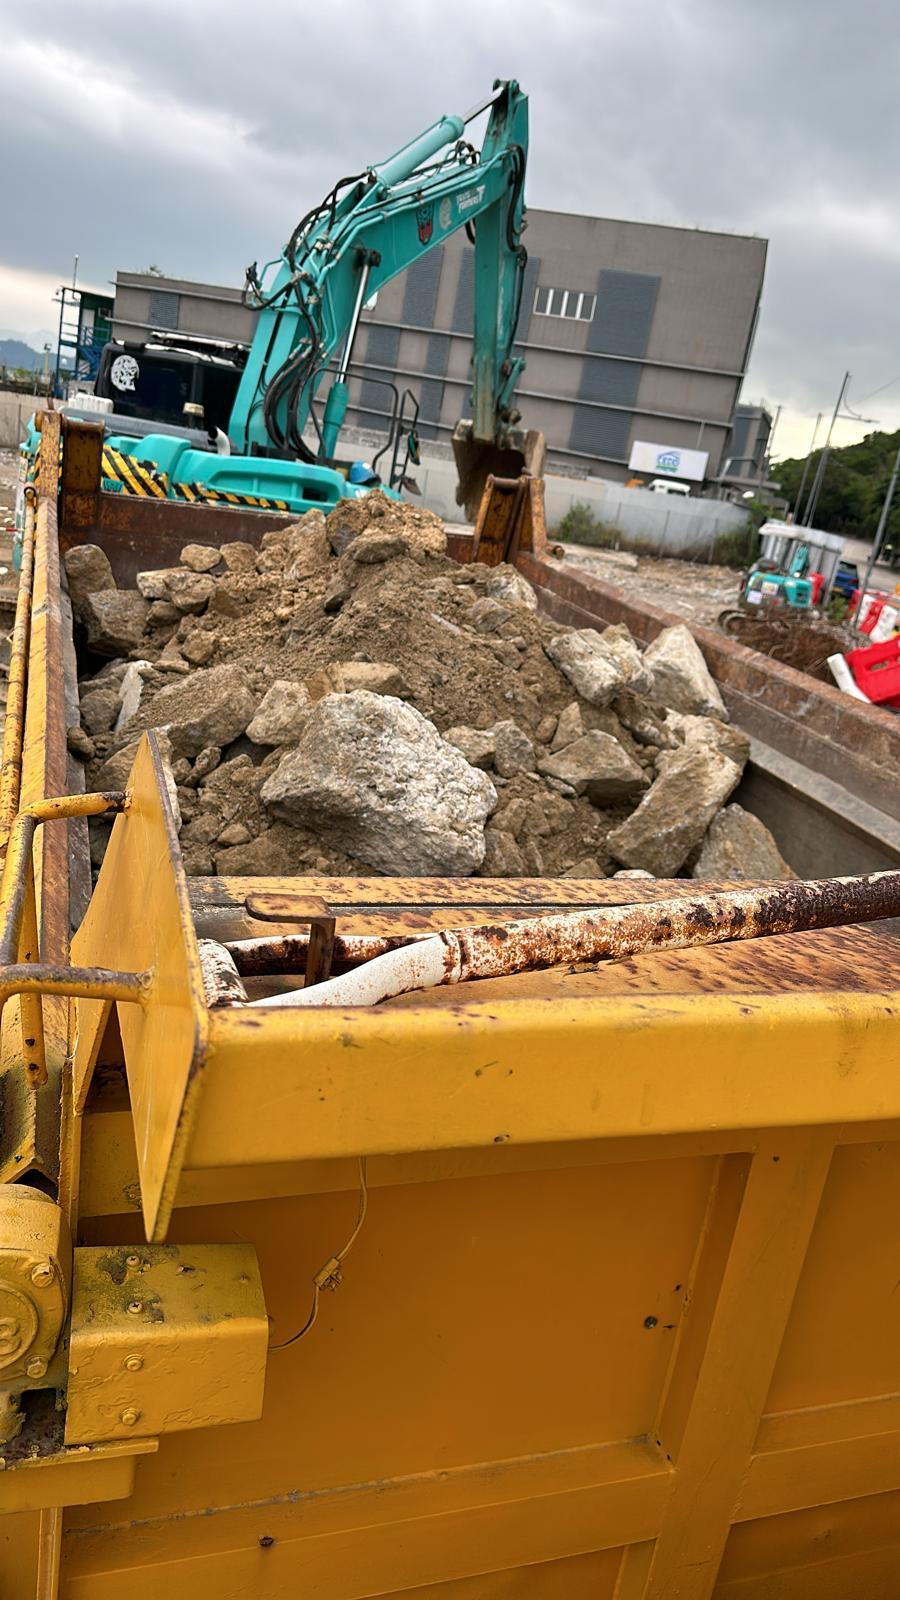dry: (227, 560, 518, 837)
